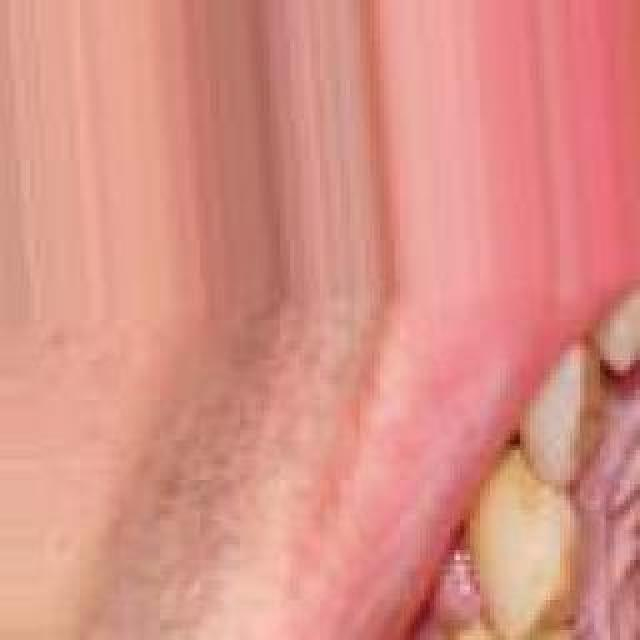maligned: (507, 335, 619, 475), (574, 260, 640, 388)
